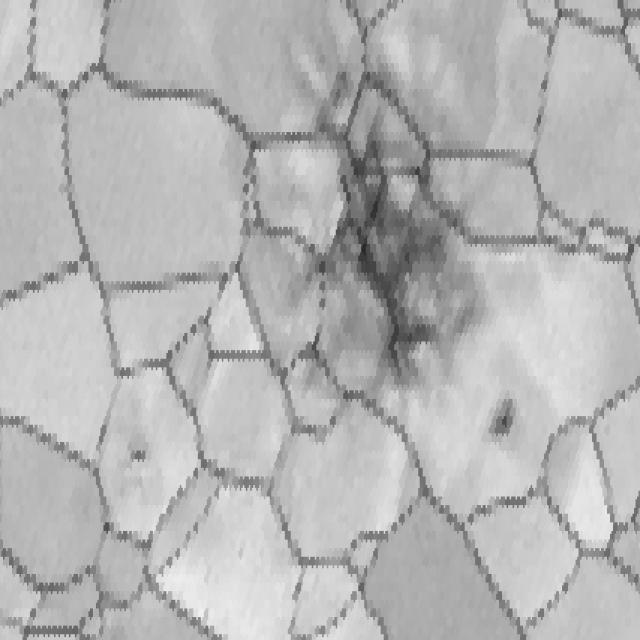good_void: (293, 47, 486, 405), (112, 426, 149, 485), (486, 390, 522, 440)
